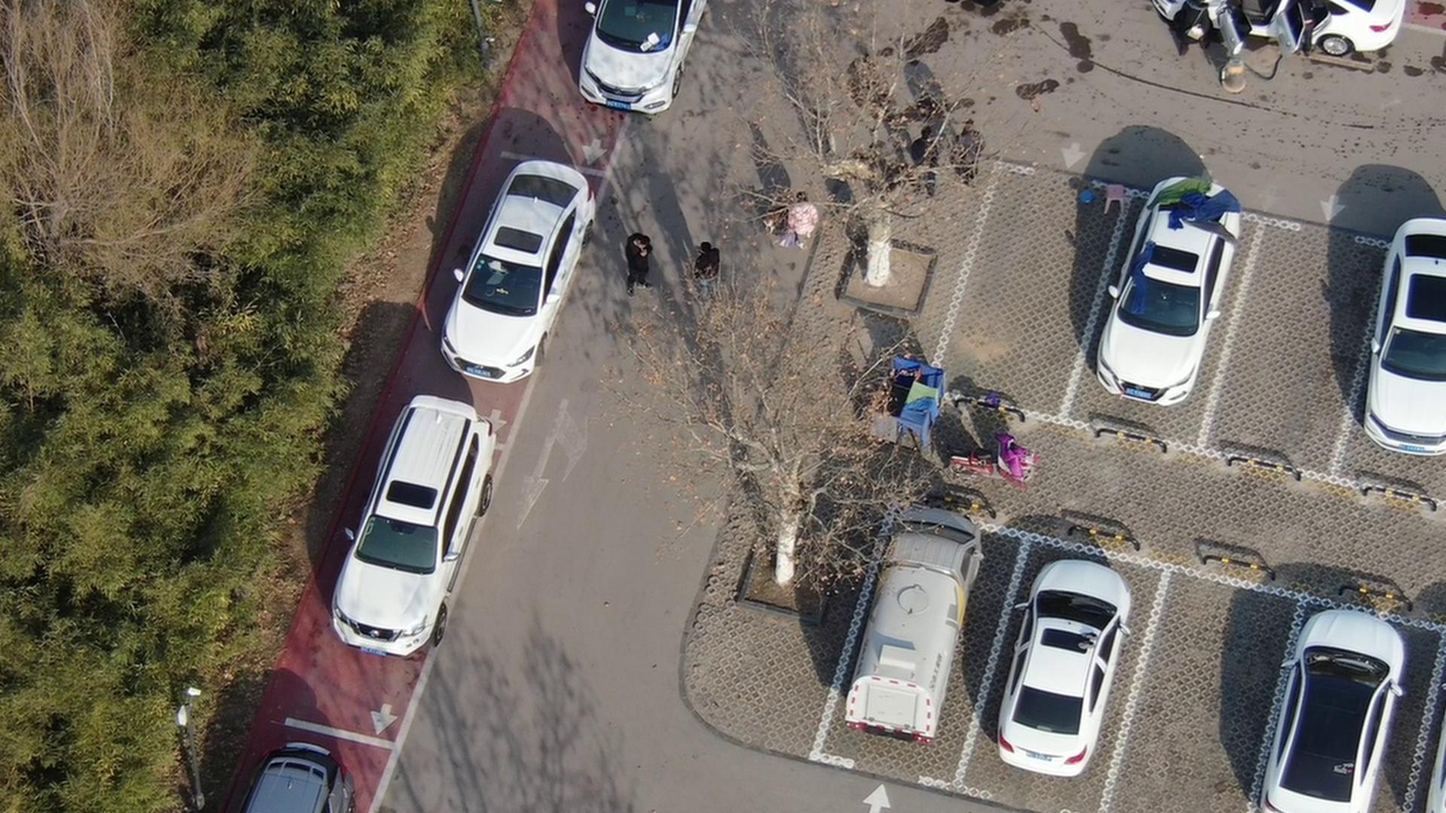human: (1171, 1, 1225, 55), (911, 125, 953, 193), (958, 114, 995, 188), (795, 179, 830, 256), (624, 231, 664, 297), (698, 236, 729, 308), (1298, 1, 1323, 61)
